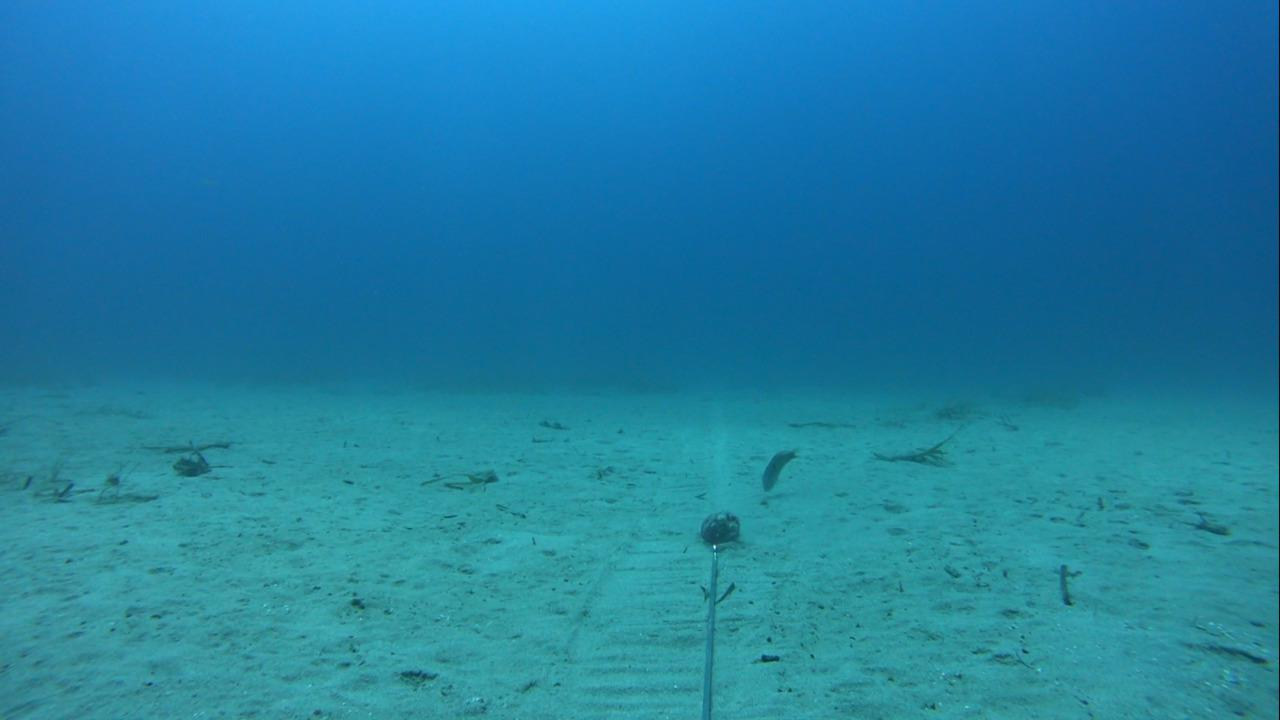raor: (756, 442, 803, 495)
